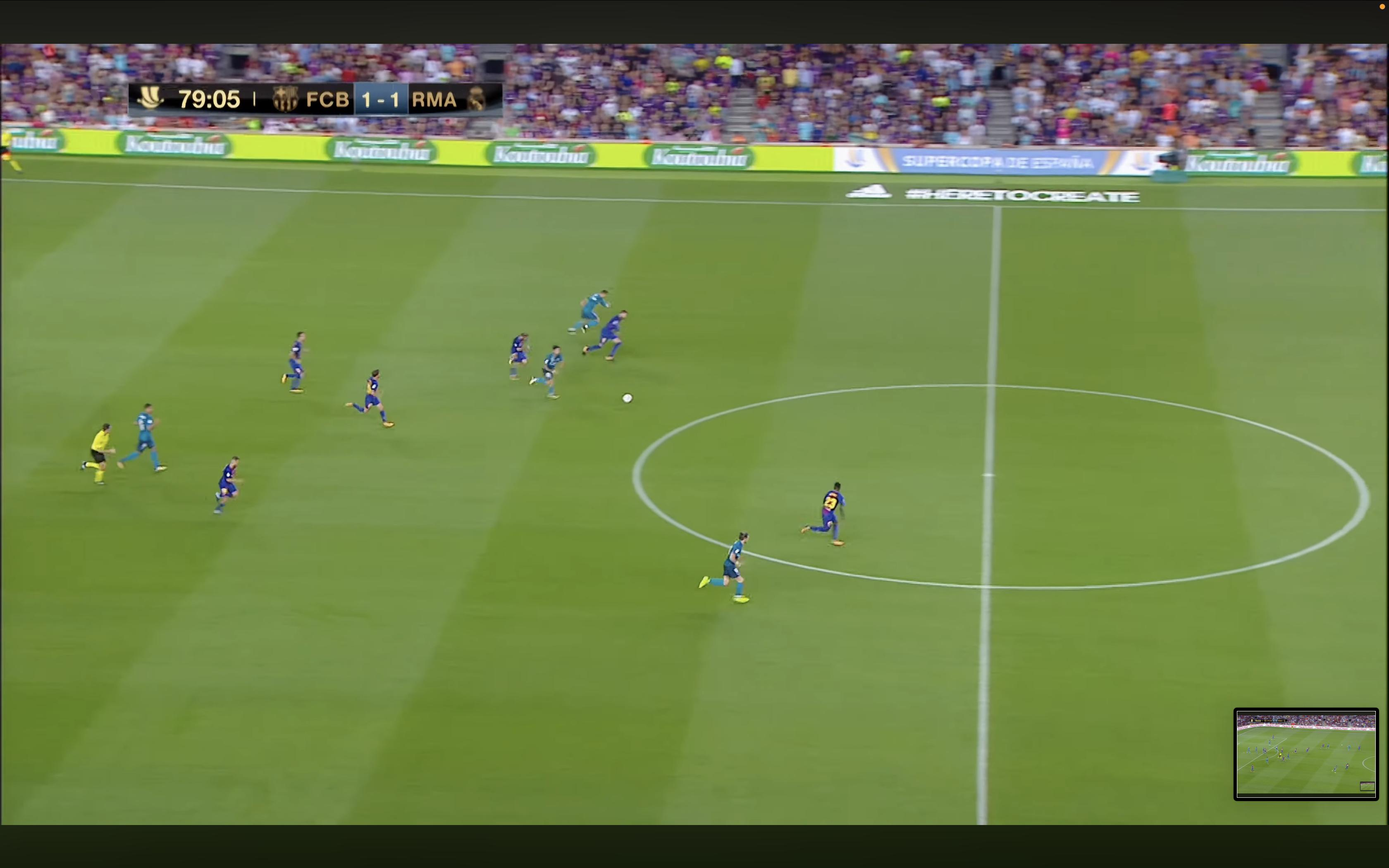ball: (621, 393, 632, 403)
player: (699, 532, 749, 603), (117, 405, 166, 471), (346, 369, 394, 427), (802, 482, 844, 546), (582, 310, 627, 360), (528, 345, 563, 398), (568, 291, 610, 333), (282, 331, 305, 393), (215, 456, 239, 514), (509, 333, 528, 380)
referee: (79, 423, 115, 484), (0, 130, 22, 172)
